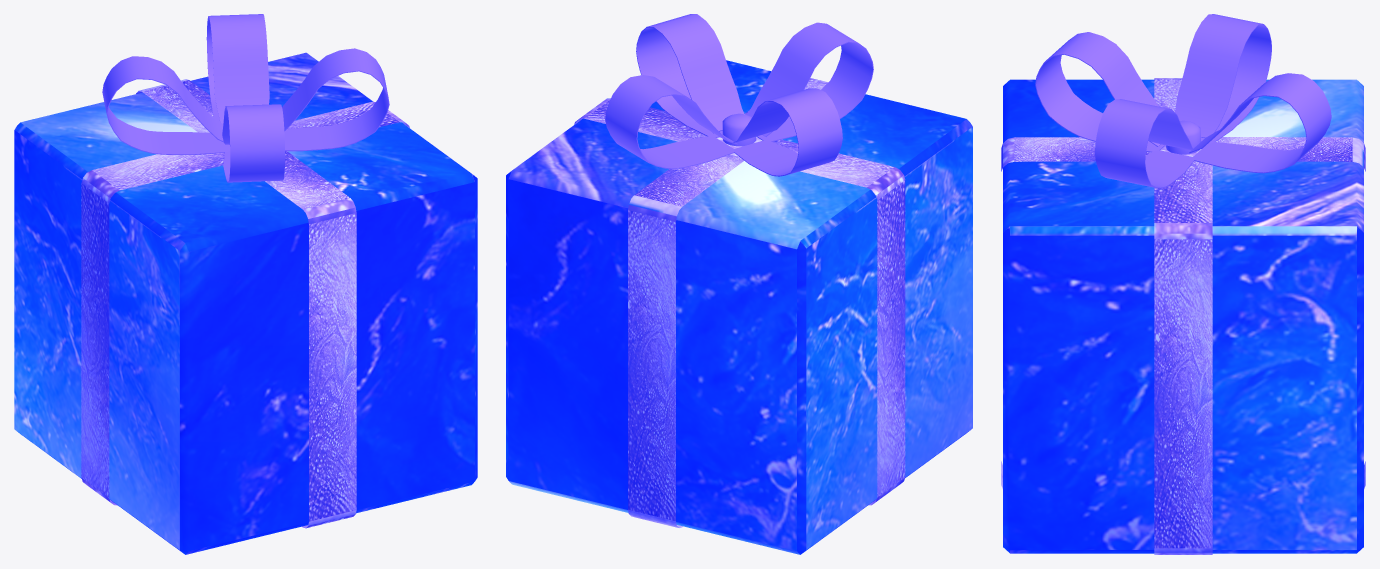
The model's file is present.glb.
3 views of the same model, side by side, from view 1: azimuth 30°, elevation 25°; view 2: azimuth 150°, elevation 25°; view 3: azimuth 270°, elevation 25° (orthographic). The views are drawn at different scales.
Visible parts, largest first — view 1: christmas present; view 2: christmas present; view 3: christmas present.
Part boxes in pixels (<box>): christmas present: <box>14,14,477,554</box>; christmas present: <box>506,14,972,554</box>; christmas present: <box>1001,14,1365,554</box>.
Size of the model in its own units: 42.36 by 53.79 by 42.25.
Materials: 1 (1 with a texture image).
